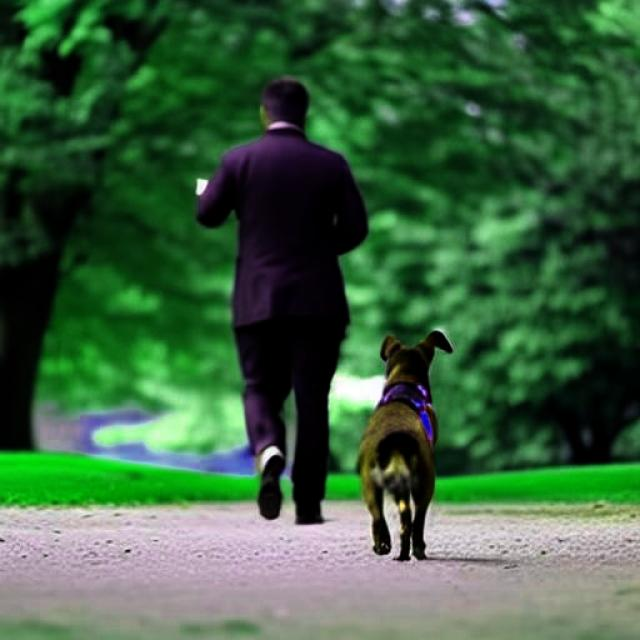Unleashed_Dog: (235, 330, 452, 562)
